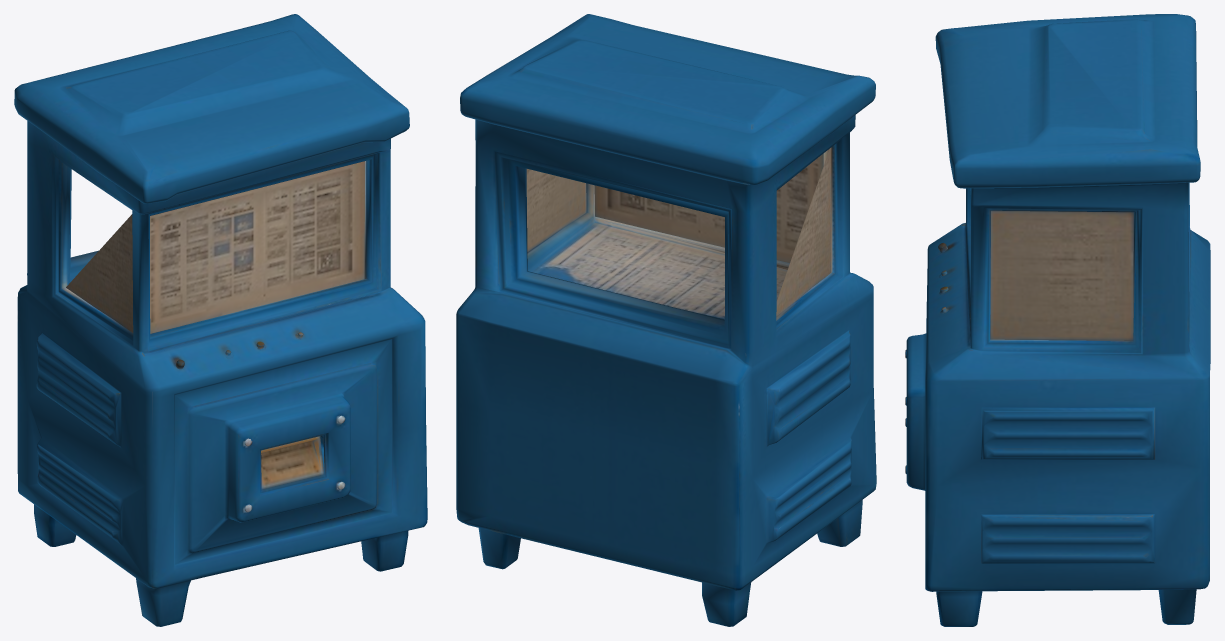
Rendered from Bank_NewsBox.glb.
The picture shows the model from 3 angles, left to right: view 1: azimuth 30°, elevation 25°; view 2: azimuth 150°, elevation 25°; view 3: azimuth 270°, elevation 25°; orthographic projection. The views are drawn at different scales.
Parts seen in each view (by area): view 1: tripo_node_a456ff52-708a-4026-89d3-f15acdc746f5; view 2: tripo_node_a456ff52-708a-4026-89d3-f15acdc746f5; view 3: tripo_node_a456ff52-708a-4026-89d3-f15acdc746f5.
Part boxes in pixels (bbox=[...]): tripo_node_a456ff52-708a-4026-89d3-f15acdc746f5: bbox=[14, 14, 427, 626]; tripo_node_a456ff52-708a-4026-89d3-f15acdc746f5: bbox=[456, 14, 876, 626]; tripo_node_a456ff52-708a-4026-89d3-f15acdc746f5: bbox=[905, 14, 1210, 626].
Size of the model in its own units: 0.66 by 1 by 0.5652.
1 material, 1 textured.
